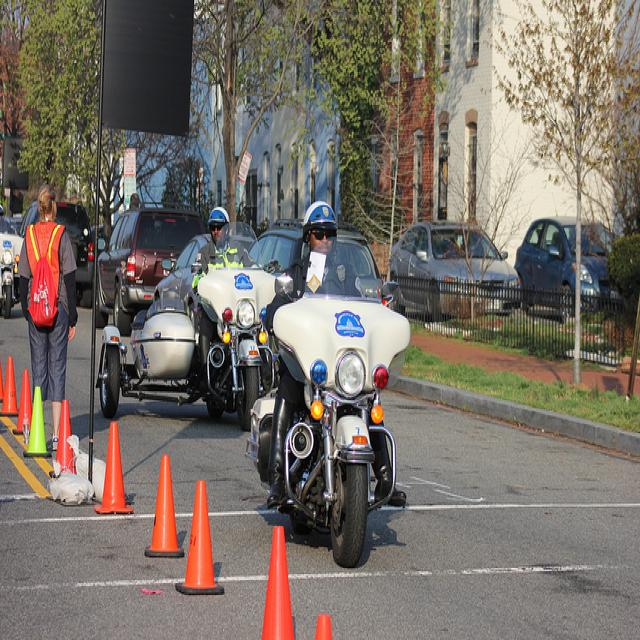motor: (268, 238, 412, 574), (194, 219, 274, 432)
